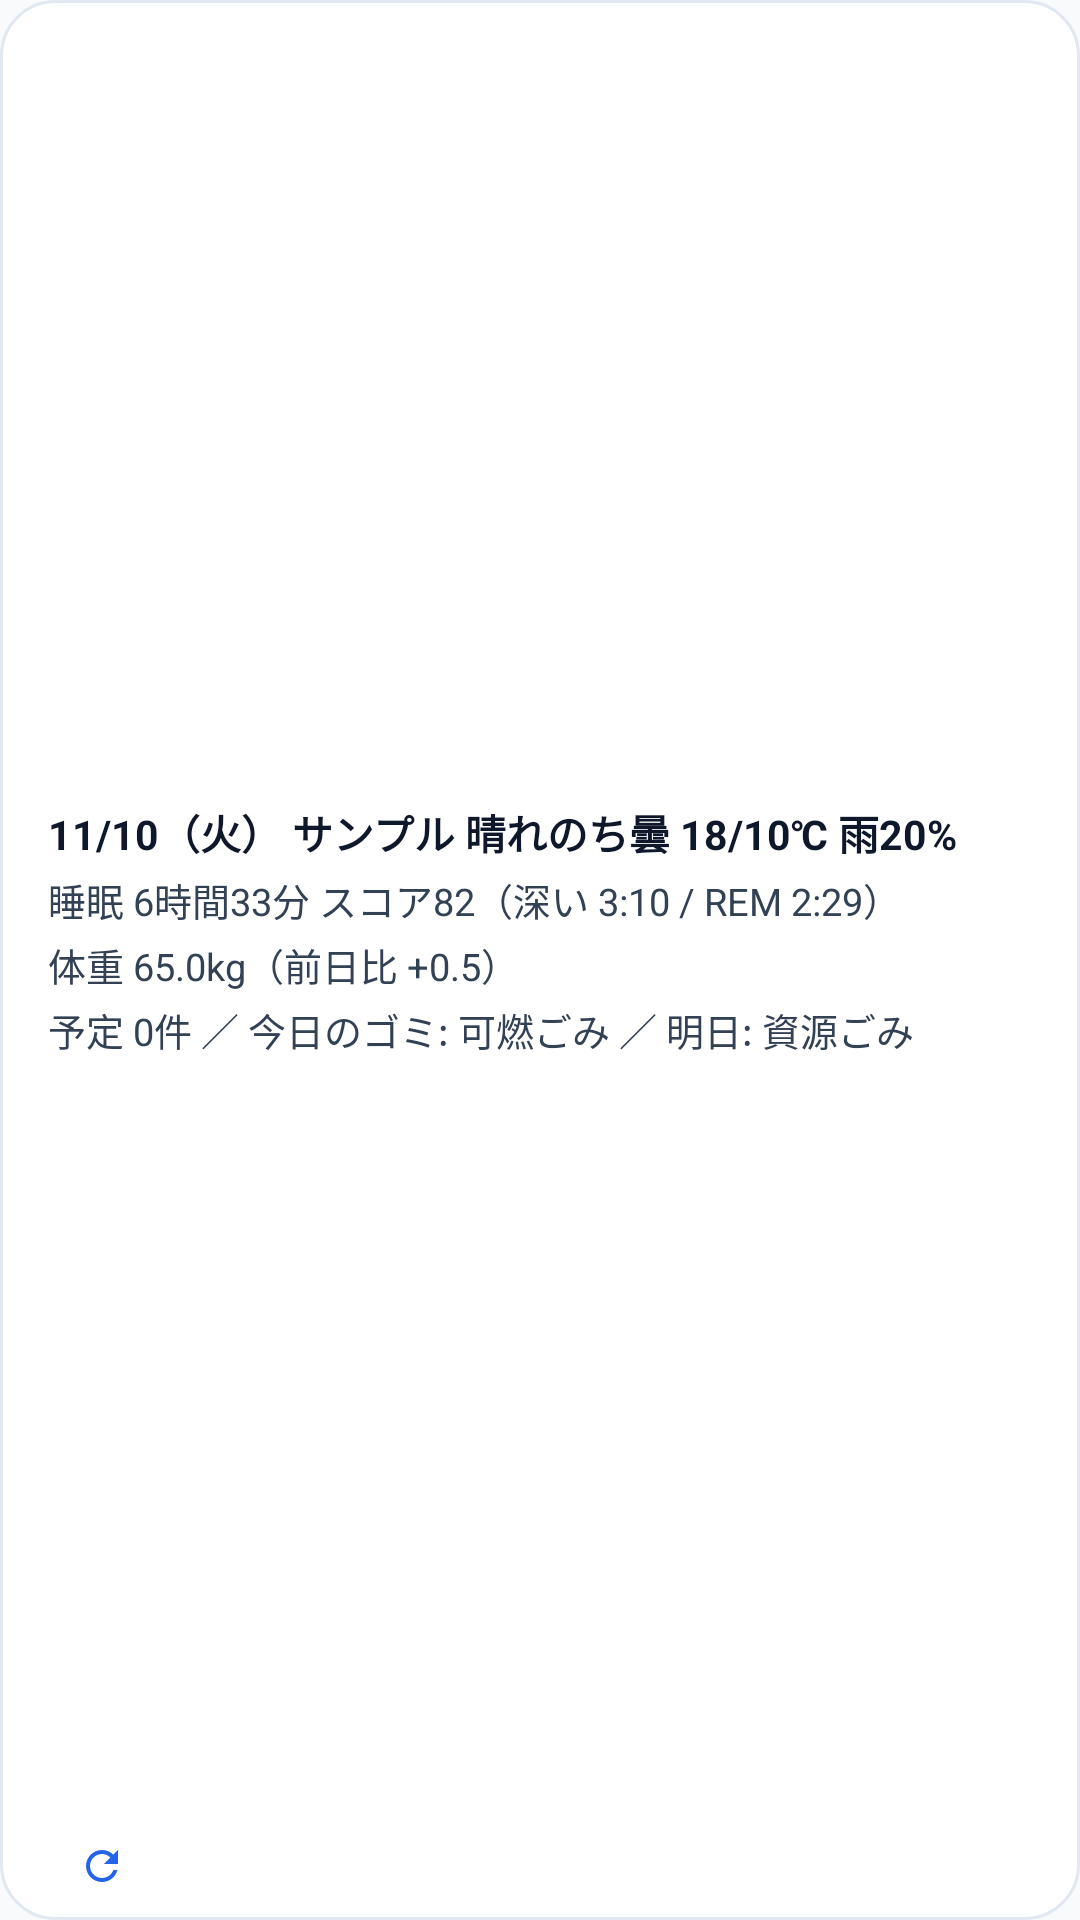

Where to tap for icons on this 1080x1920 app screen, as (x=x, y=y):
タップで即時更新: (x=102, y=1866)
